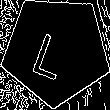L_N: (33, 21, 79, 80)
